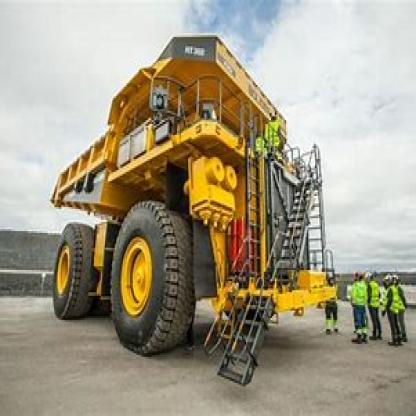dump_truck: (41, 28, 335, 358)
